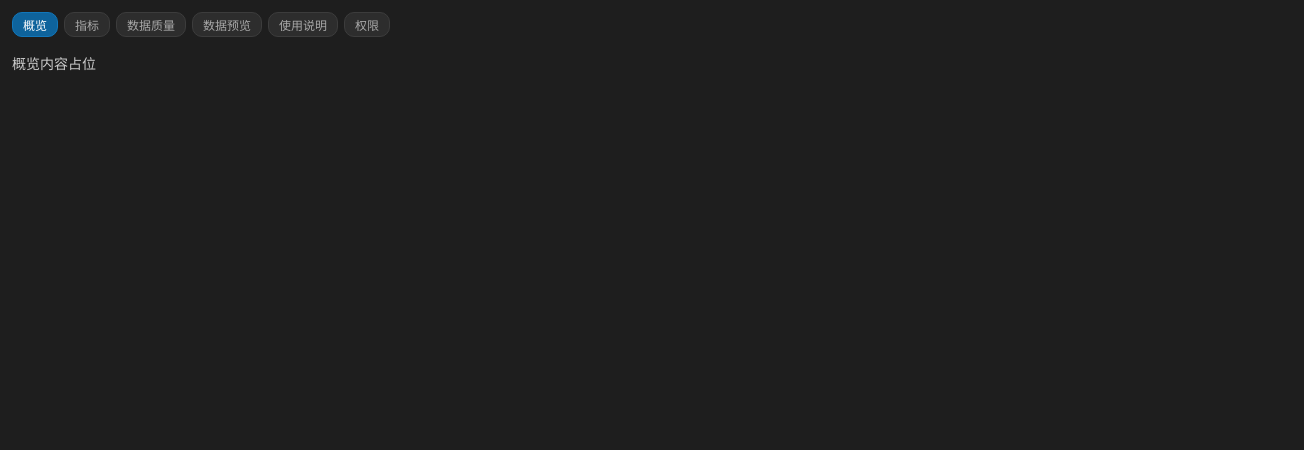
Test: AssetDetailTabs 页签接线 › 使用说明未修改时保存按钮不可点
What coordinates should you click on to do the following:
click the tab "使用说明"
I would click on:
 (303, 24)
Its box is x1=268 y1=12 x2=338 y2=37.
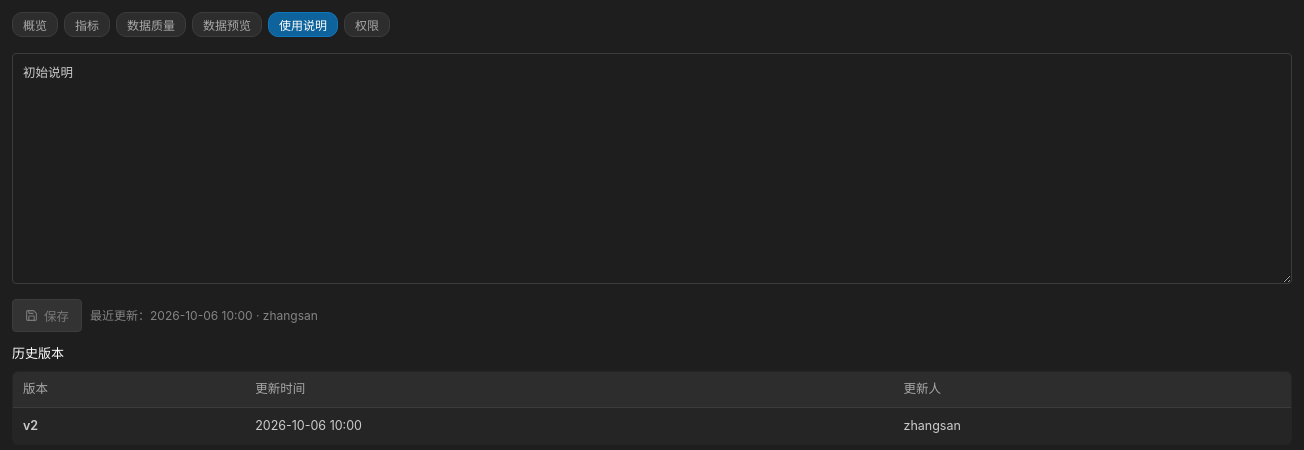
Expected: the button "保存" is disabled, x1=12 y1=298 x2=82 y2=332
